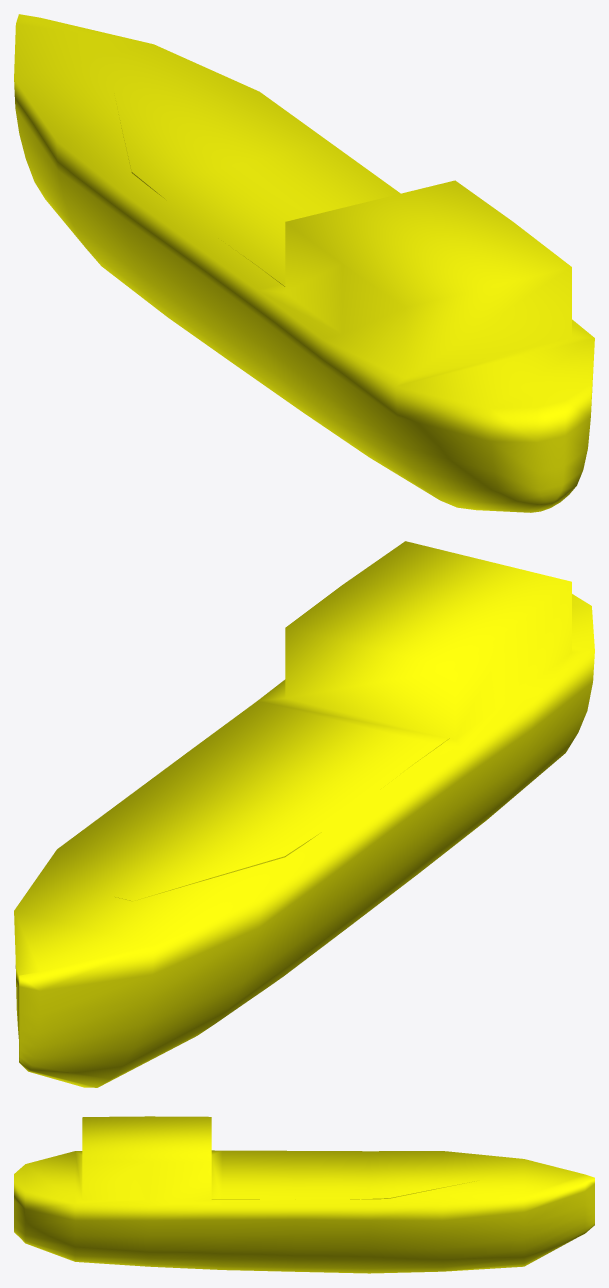
Rendered from boatYellow.gltf.
3 renders of one model, top to bottom at view 1: azimuth 30°, elevation 25°; view 2: azimuth 150°, elevation 25°; view 3: azimuth 270°, elevation 25°, orthographic. The views are drawn at different scales.
Visible parts, largest first — view 1: Cylinder; view 2: Cylinder; view 3: Cylinder.
Part boxes in pixels (<box>): Cylinder: <box>14,14,594,512</box>; Cylinder: <box>14,541,594,1087</box>; Cylinder: <box>14,1116,594,1273</box>.
Bounding box in the file's own units: 3.05 × 3.31 × 13.31.
